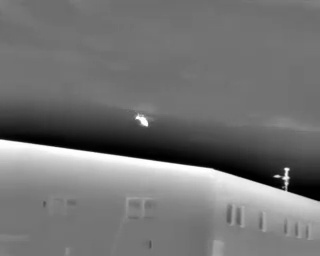HELICOPTER: (131, 109, 161, 132)
